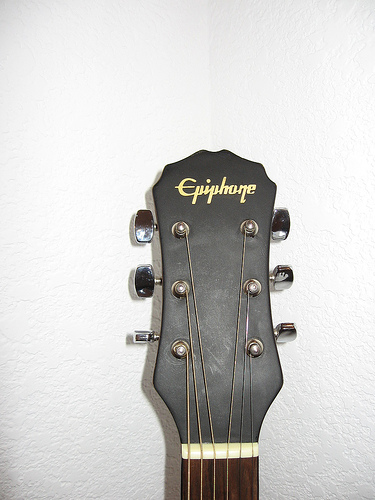guitar: (130, 148, 305, 500)
